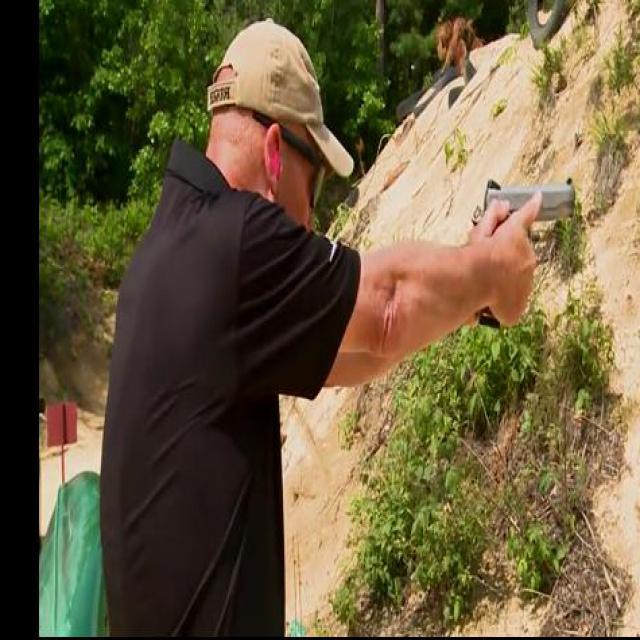Gun: (472, 179, 580, 330)
